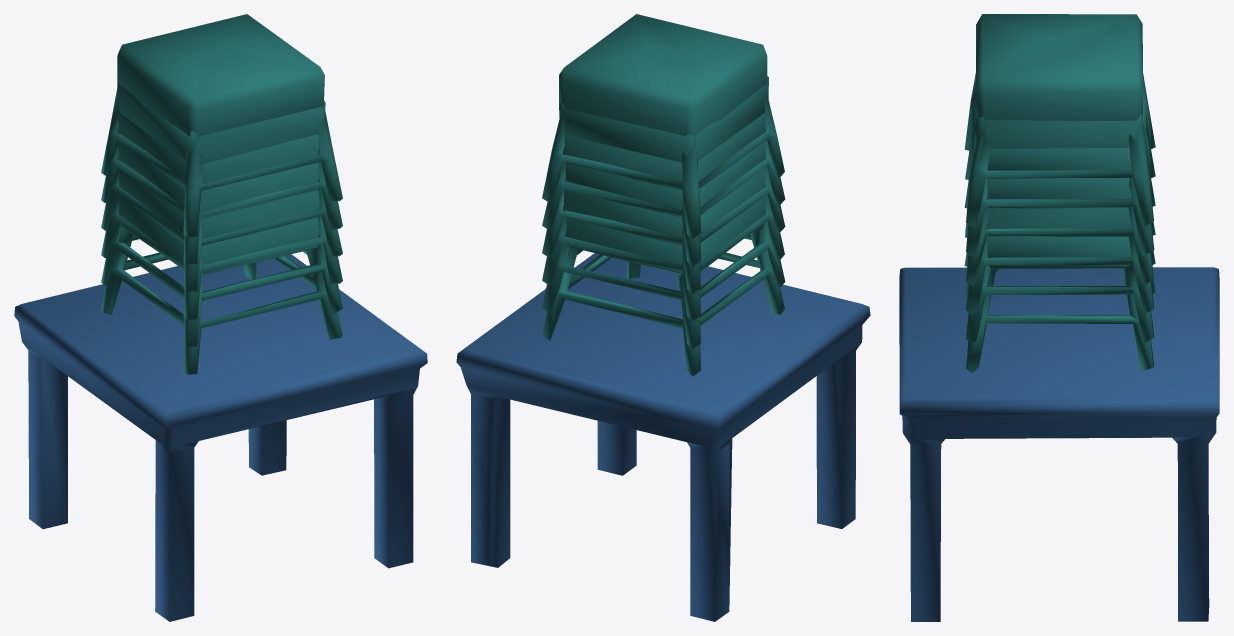
File: bac_ghe_2.glb
The picture shows the model from 3 angles, left to right: view 1: azimuth 30°, elevation 25°; view 2: azimuth 150°, elevation 25°; view 3: azimuth 270°, elevation 25°; orthographic projection. The views are drawn at different scales.
Parts seen in each view (by area): view 1: bac_ghe_2; view 2: bac_ghe_2; view 3: bac_ghe_2.
Part boxes in pixels (left/top/right/bottom): bac_ghe_2: left=14, top=14, right=427, bottom=621; bac_ghe_2: left=456, top=14, right=870, bottom=621; bac_ghe_2: left=899, top=14, right=1219, bottom=621.
Bounding box in the file's own units: 0.5989 × 1.06 × 0.5992.
